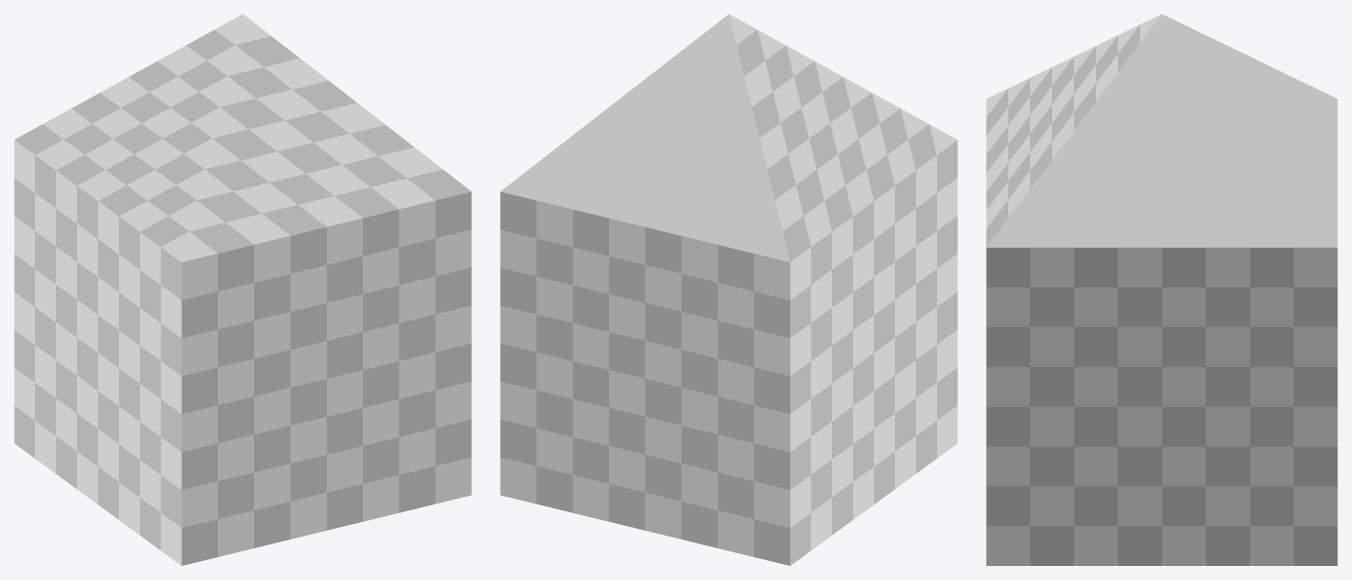
3 renders of one model, left to right at view 1: azimuth 30°, elevation 25°; view 2: azimuth 150°, elevation 25°; view 3: azimuth 270°, elevation 25°, orthographic. The views are drawn at different scales.
Parts seen in each view (by area): view 1: complex_object; view 2: complex_object; view 3: complex_object.
Boxes of the visible parts, <box> form: complex_object: <box>14,14,471,565</box>; complex_object: <box>500,14,957,565</box>; complex_object: <box>986,14,1337,565</box>.
Bounding box in the file's own units: 1 × 1.5 × 1.
Materials: 1 (1 with a texture image).
